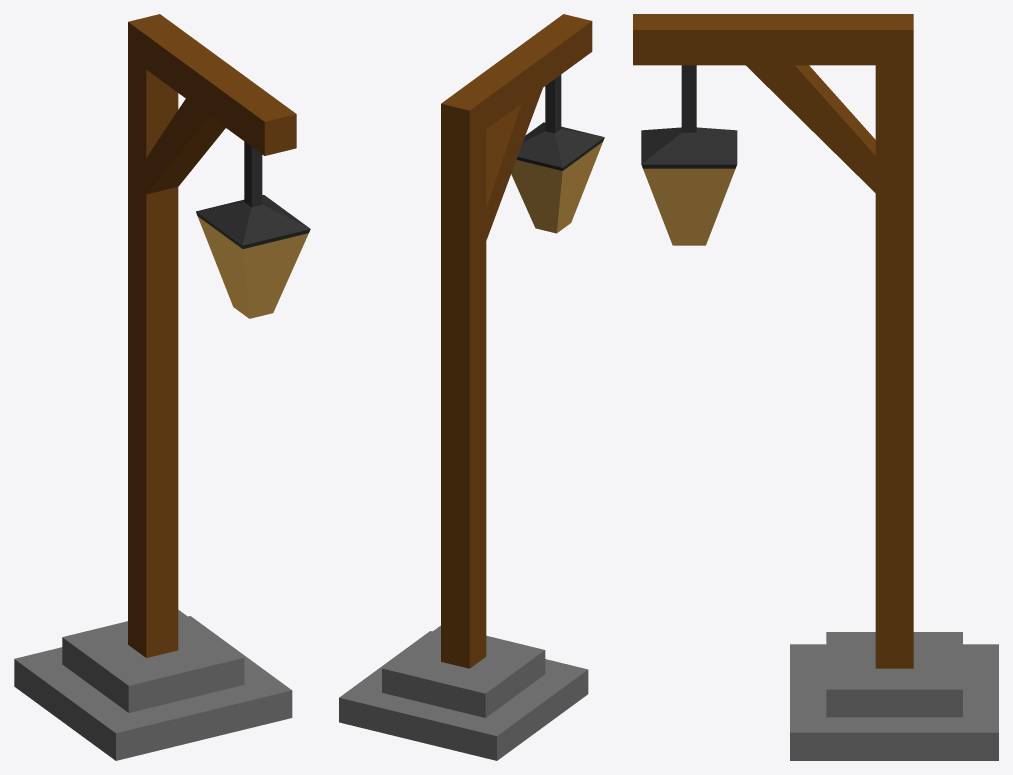
The model's file is lamp.fbx.
3 views of the same model, side by side, from view 1: azimuth 30°, elevation 25°; view 2: azimuth 150°, elevation 25°; view 3: azimuth 270°, elevation 25° (orthographic). The views are drawn at different scales.
Parts seen in each view (by area): view 1: LampBase; view 2: LampBase; view 3: LampBase.
Part boxes in pixels (x1,y1,x2,y2): LampBase: [14, 14, 310, 760]; LampBase: [339, 14, 604, 760]; LampBase: [633, 14, 998, 760].
Bounding box in the file's own units: 198 × 727 × 347.
